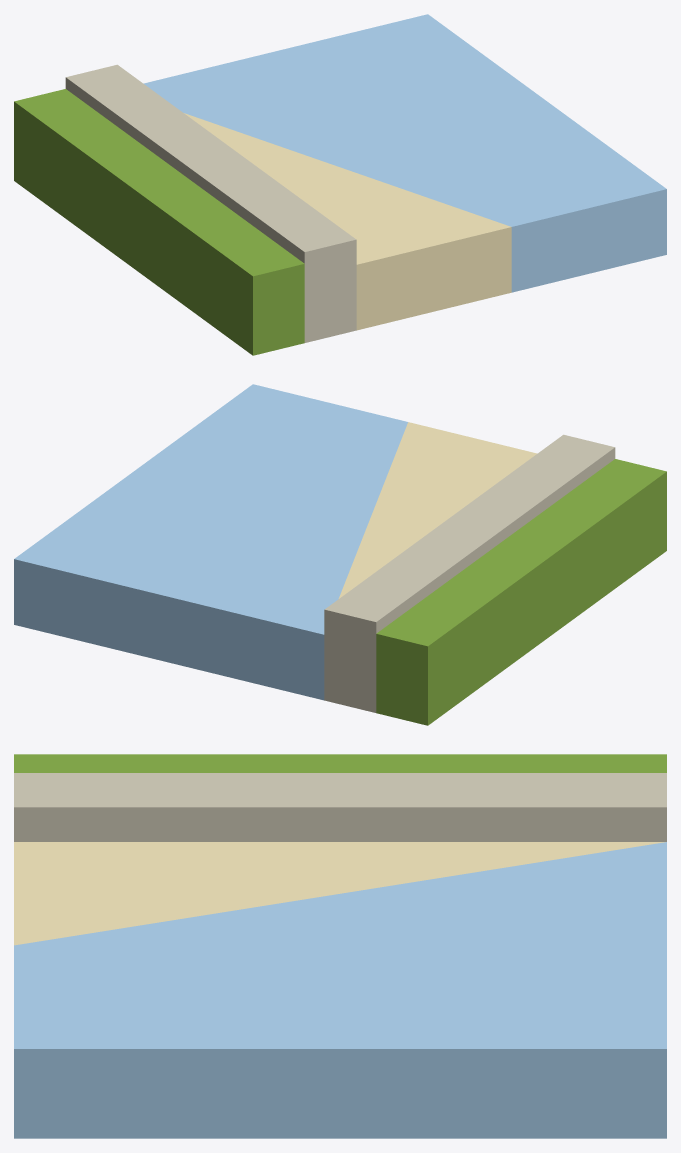
The model's file is roadTile_282.fbx.
The picture shows the model from 3 angles, top to bottom: view 1: azimuth 30°, elevation 25°; view 2: azimuth 150°, elevation 25°; view 3: azimuth 270°, elevation 25°; orthographic projection. The views are drawn at different scales.
Parts seen in each view (by area): view 1: roadTile_282; view 2: roadTile_282; view 3: roadTile_282.
Boxes of the visible parts, x1=… form: roadTile_282: x1=14, y1=14, x2=666, y2=355; roadTile_282: x1=14, y1=384, x2=666, y2=725; roadTile_282: x1=14, y1=754, x2=666, y2=1138.
Bounding box in the file's own units: 118 × 24.8 × 118.
